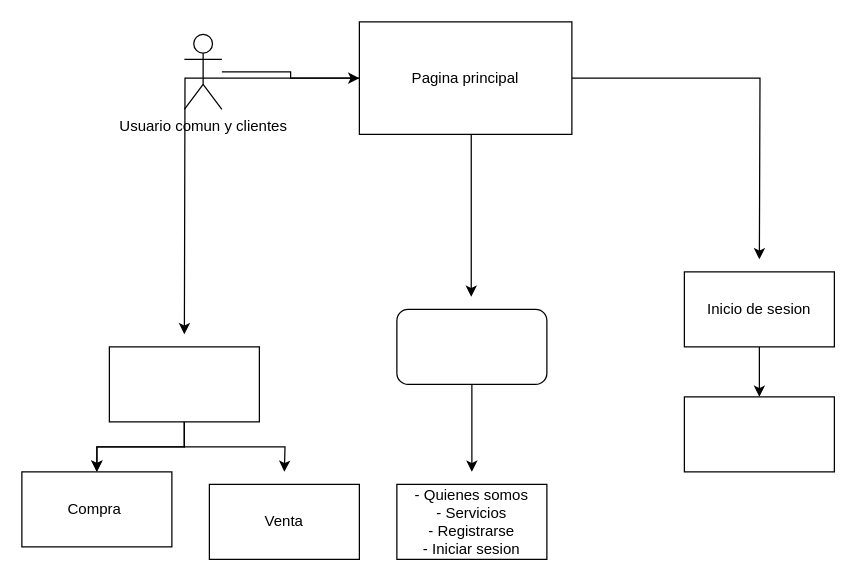
This 856x581 diagram has some shape labels left out. The box of each missing label's shape, as (x1, y1, x2, y2) in pixels:
Accciones de la pagina: (108, 346, 259, 422)
Aplicacion principlal: (683, 396, 834, 472)
Paginas principales: (396, 308, 547, 384)
